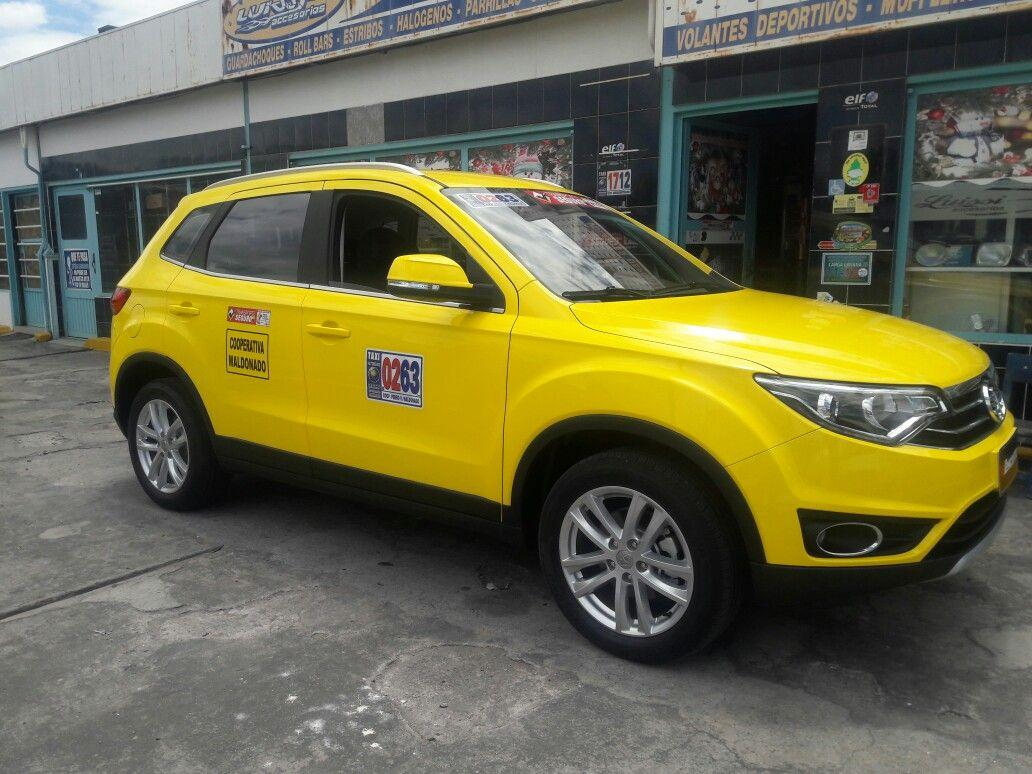taxi: (108, 127, 1010, 672)
